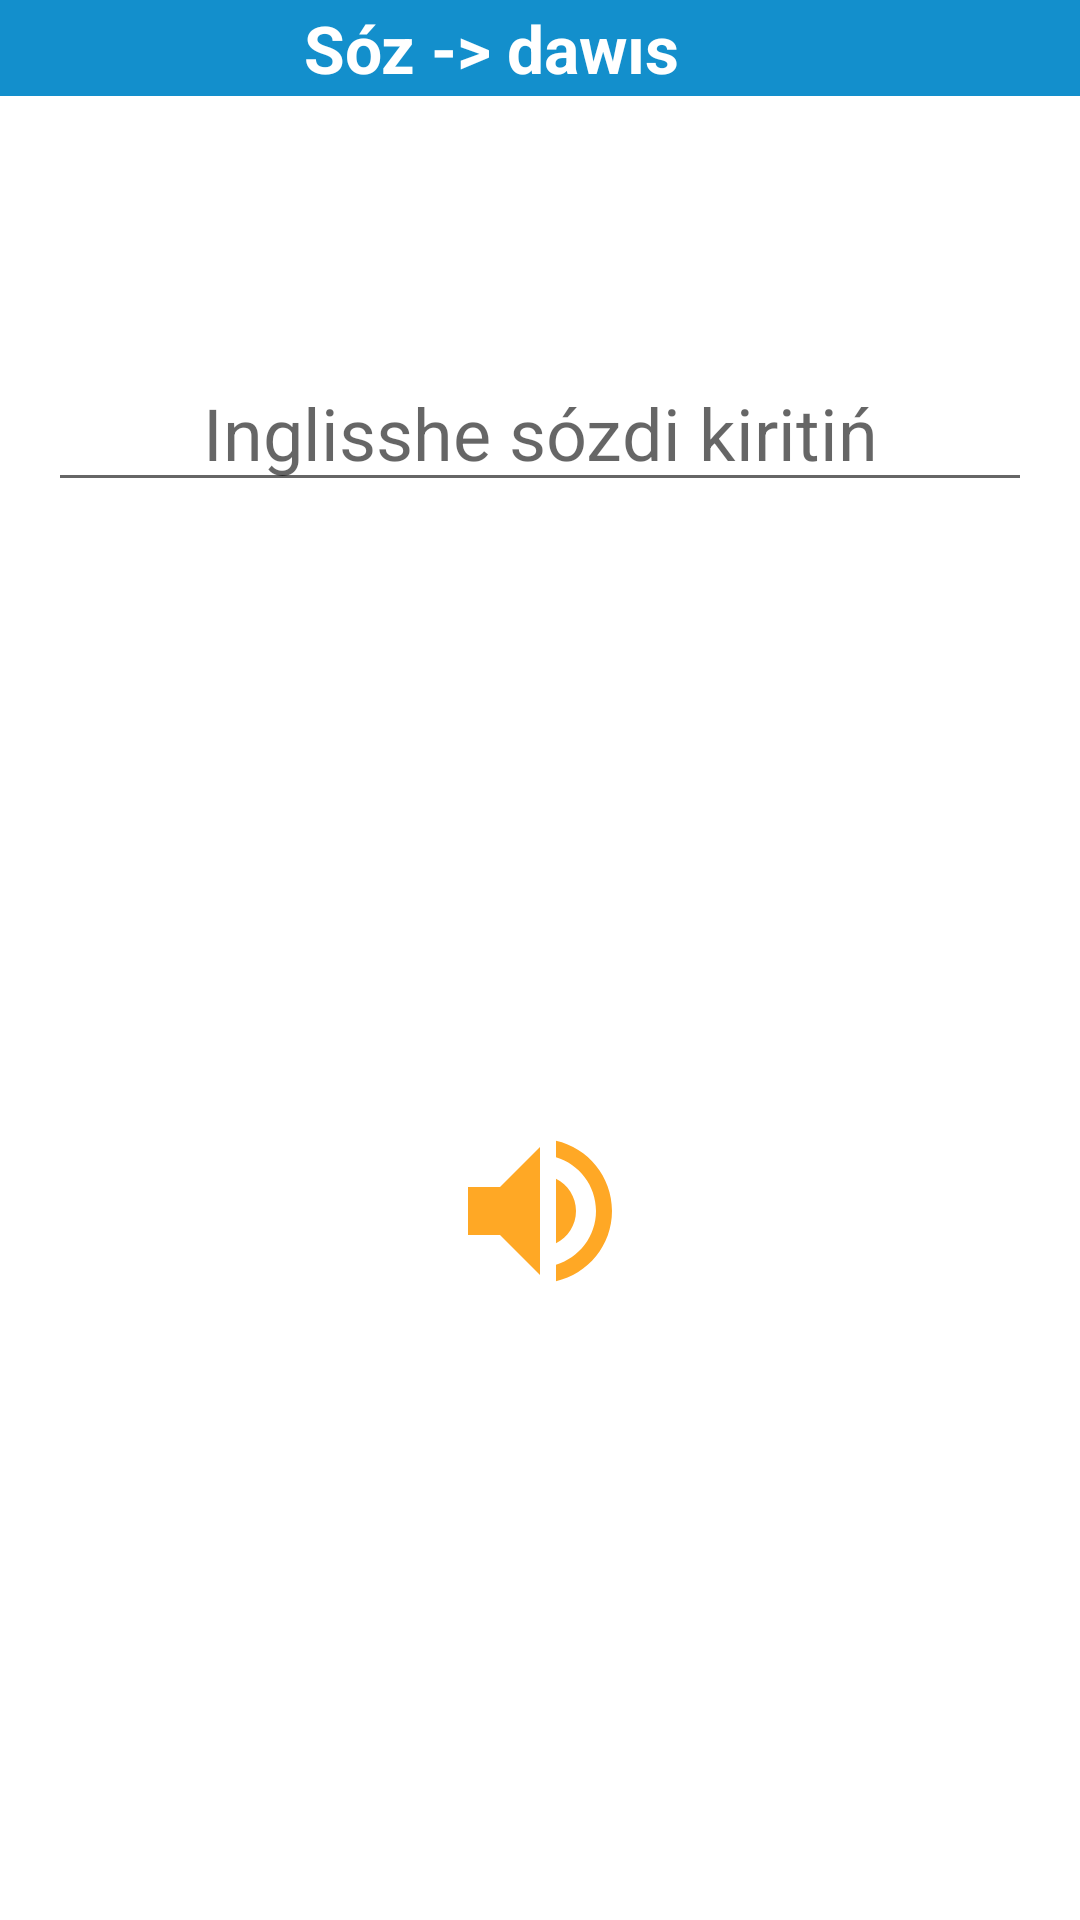

Where icons sit on this 1080x1920 app screen, as (left=x1, top=y1, right=x2, bottom=y2):
volume: (left=468, top=1140, right=612, bottom=1281)
